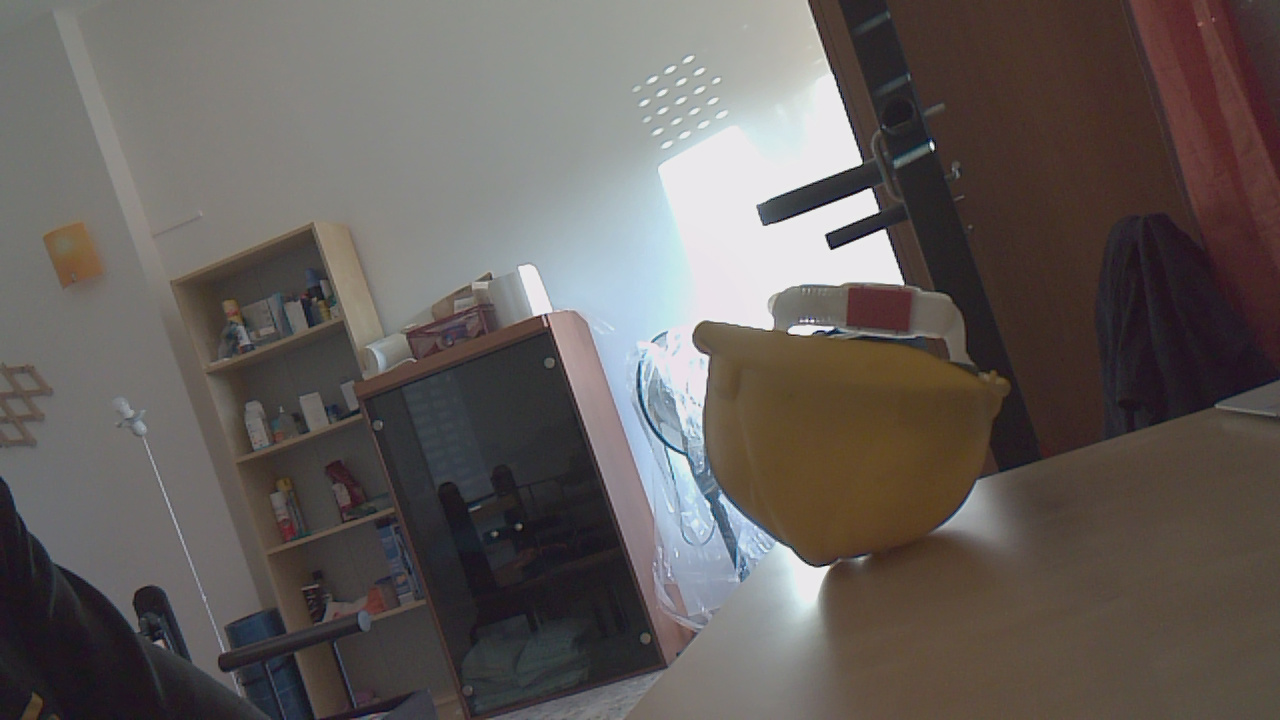Helmet: (695, 271, 1028, 590)
